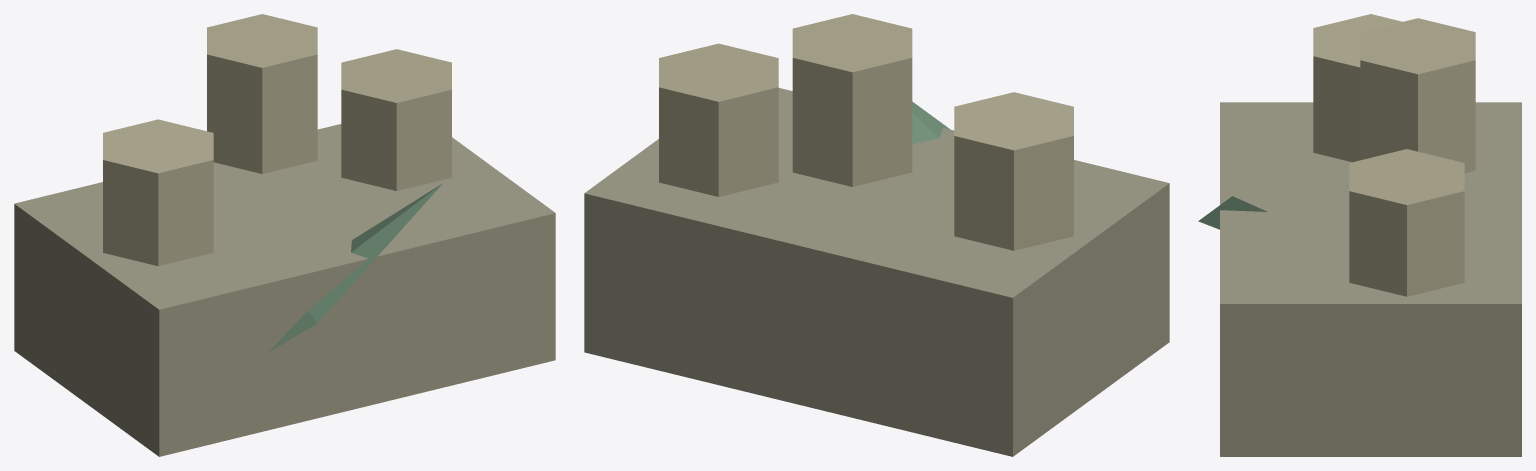
File: map-exclusive-v3__ruins_04.glb
3 renders of one model, left to right at view 1: azimuth 30°, elevation 25°; view 2: azimuth 150°, elevation 25°; view 3: azimuth 270°, elevation 25°, orthographic. The views are drawn at different scales.
Parts seen in each view (by area): view 1: ruins_04; view 2: ruins_04; view 3: ruins_04.
Part boxes in pixels (bbox=[...]): ruins_04: bbox=[14, 14, 555, 456]; ruins_04: bbox=[584, 14, 1169, 456]; ruins_04: bbox=[1198, 14, 1521, 456].
Size of the model in its own units: 1.72 by 1.23 by 1.17.
